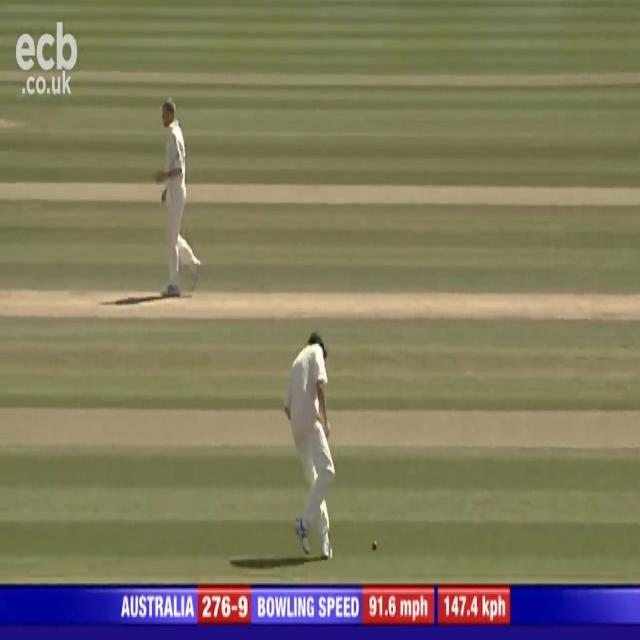ball: (368, 534, 382, 556)
